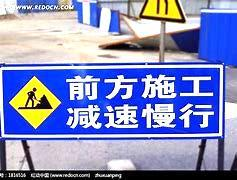sign: (1, 65, 223, 139)
